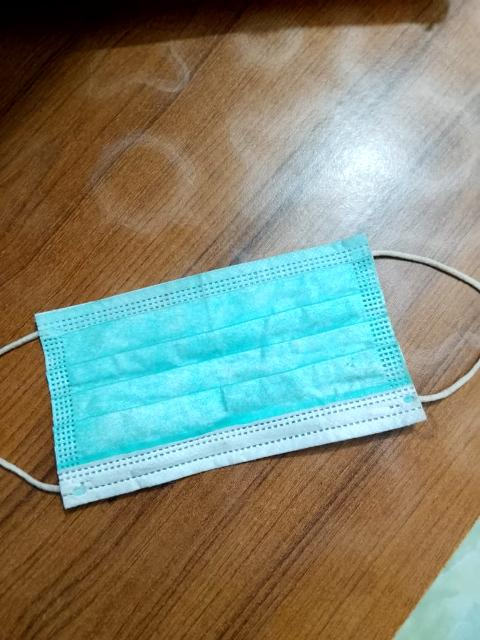mask: (0, 255, 480, 514)
